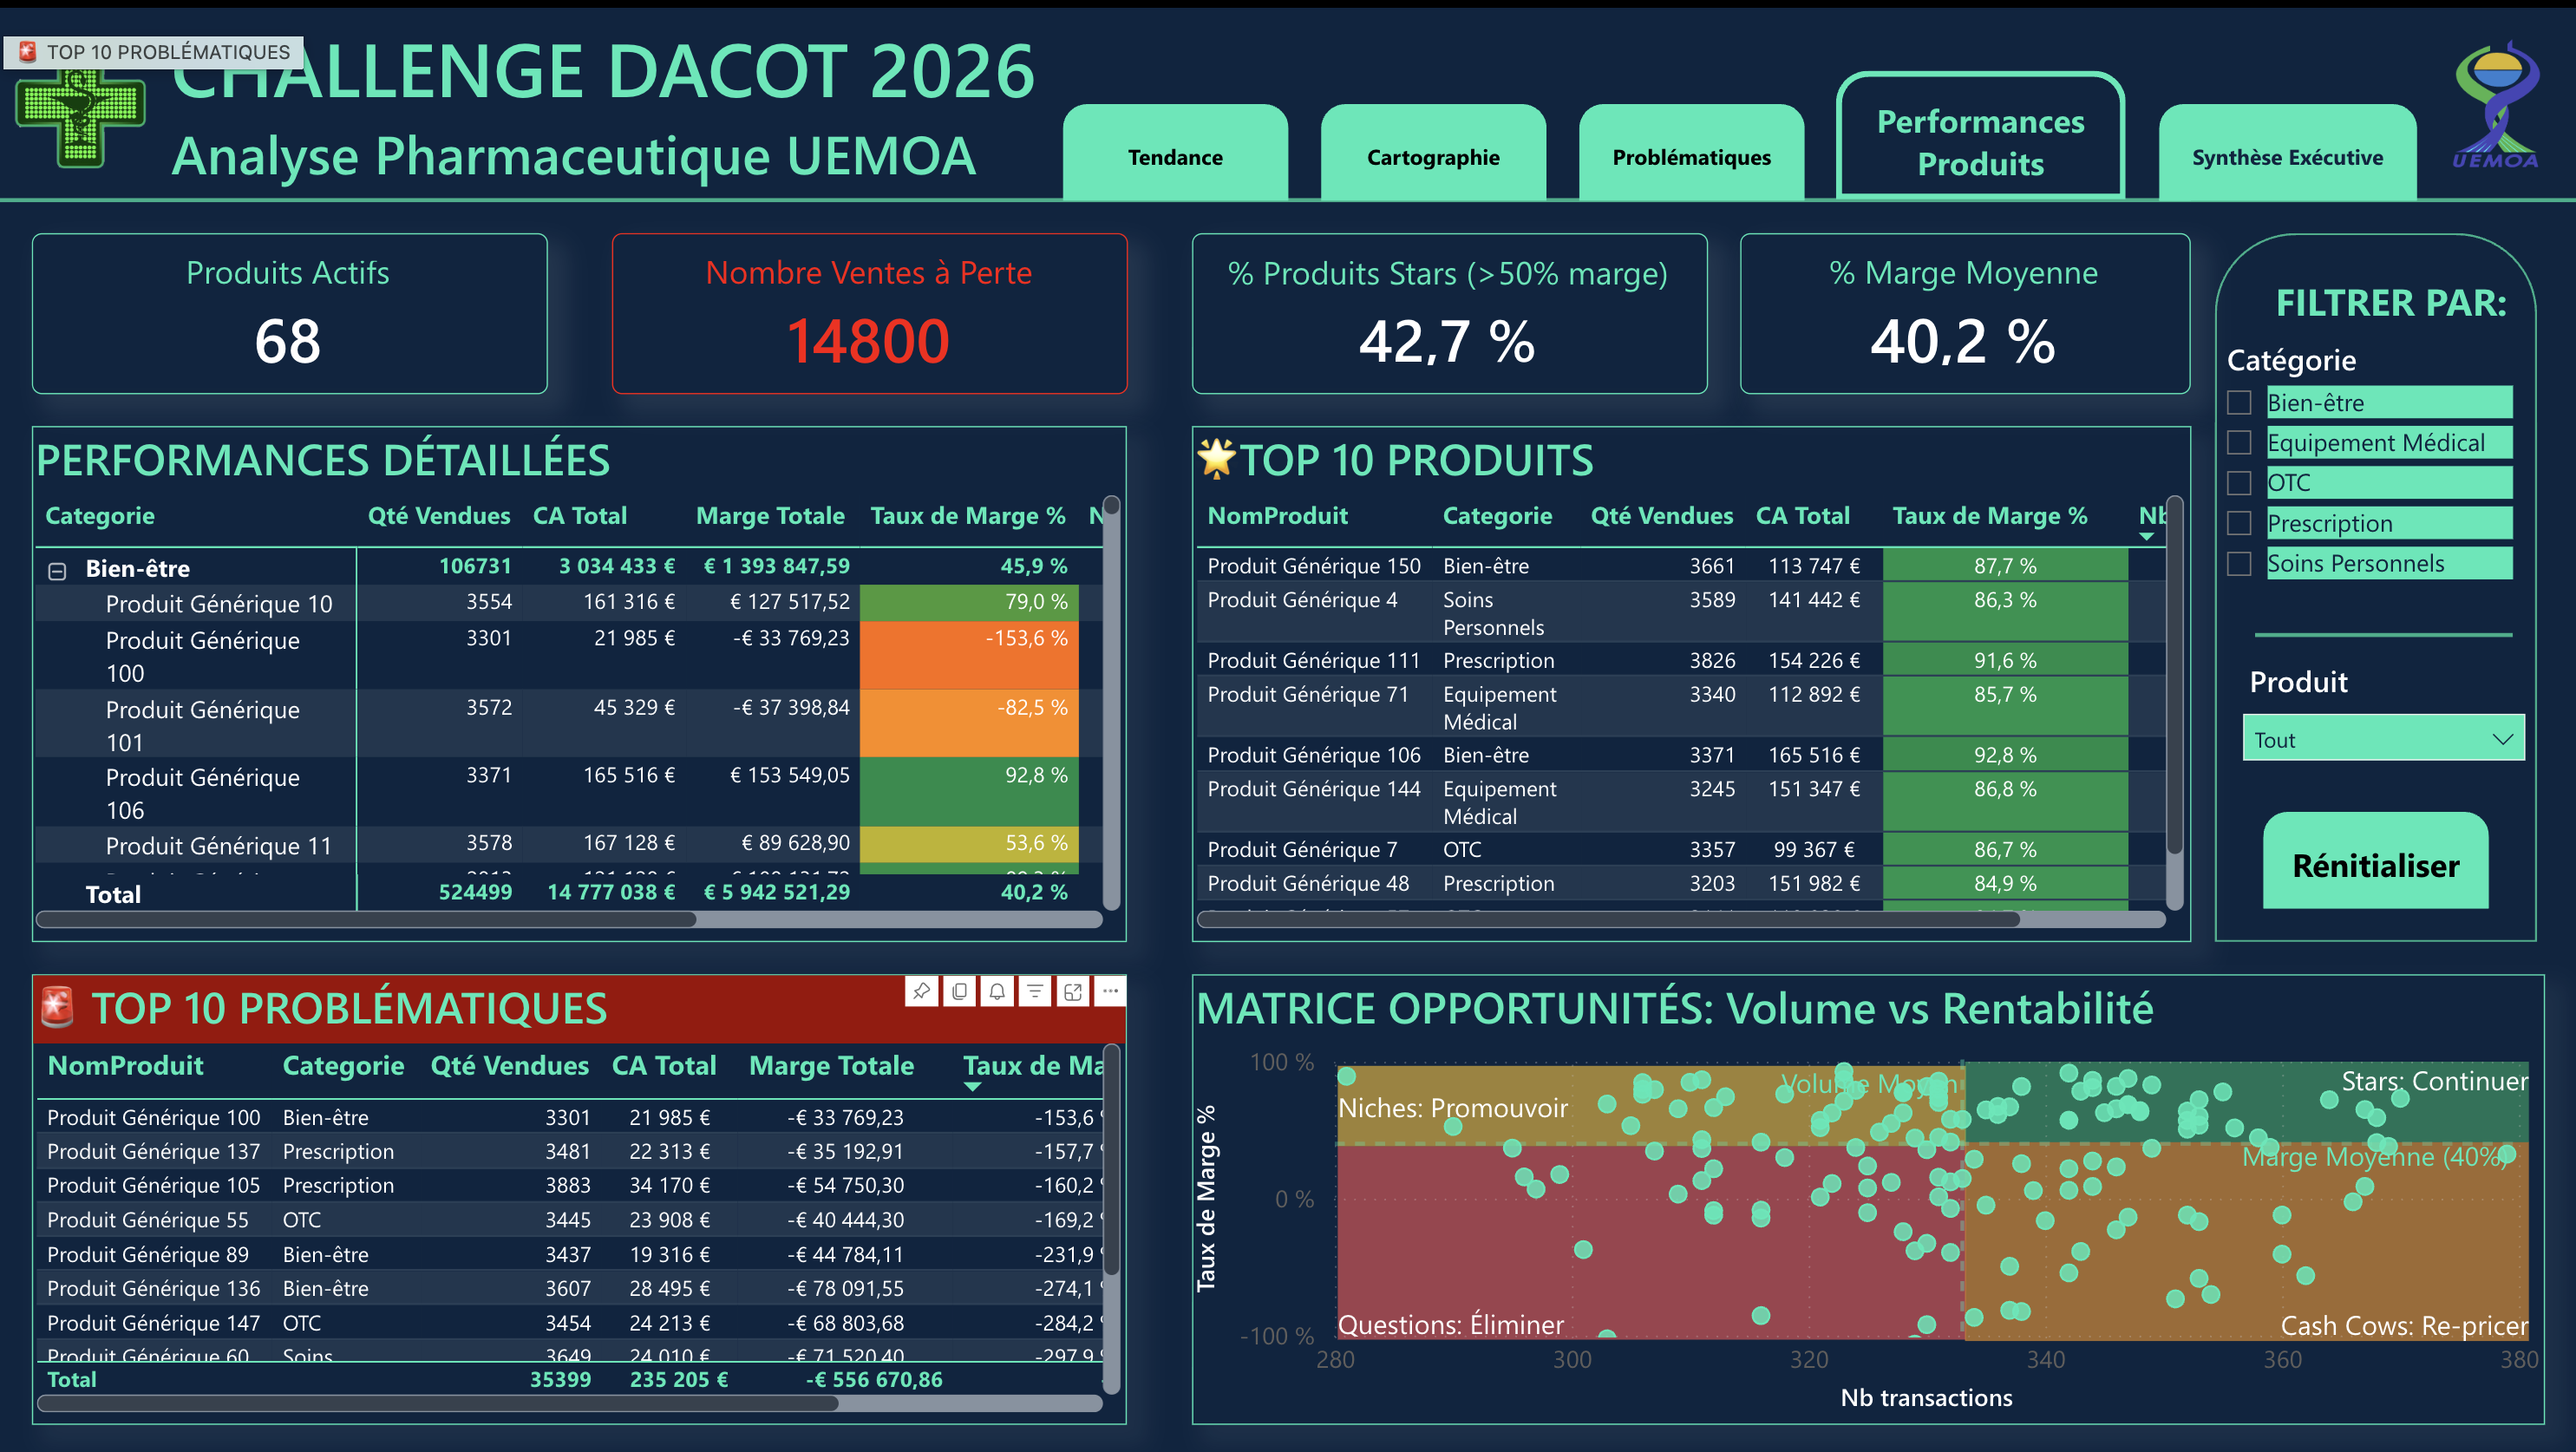

What the dashboard file says about the page in this screenshot:
{"tool":"powerbi","page":{"name":"Performances Produits","canvas":[1280,720],"ordinal":1},"visuals":[{"type":"textbox","box":[80,0,640,96],"z":0},{"type":"shape","box":[0,80,1280,32],"z":1000},{"type":"image","box":[0,0,80,96],"z":2000},{"type":"image","box":[1200,16,80,64],"z":3000},{"type":"actionButton","box":[1072,48,128,48],"z":4000},{"type":"actionButton","box":[528,48,112,48],"z":5000},{"type":"actionButton","box":[656,48,112,48],"z":6000},{"type":"actionButton","box":[784,48,112,48],"z":7000},{"type":"actionButton","box":[912,32,144,64],"z":8000},{"type":"shape","box":[1100,112,160,352],"z":9000},{"type":"actionButton","box":[1124,400,112,48],"z":10000},{"type":"pivotTable","title":" PERFORMANCES DÉTAILLÉES","fields":{"Rows":["DimProduit.Categorie","DimProduit.NomProduit"],"Values":["⚡ Mesures.Qté Vendues","⚡ Mesures.CA Total","⚡ Mesures.Marge Totale","⚡ Mesures.Taux de Marge %","⚡ Mesures.Nb transactions","⚡ Mesures.Nb Ventes à Perte"]},"box":[16,208,544,256],"z":11000},{"type":"cardVisual","fields":{"Data":["⚡ Mesures.Nb Produits Actifs"]},"box":[16,112,256,80],"z":12000},{"type":"cardVisual","fields":{"Data":["⚡ Mesures.Taux de Marge %"]},"box":[864,112,224,80],"z":13000},{"type":"cardVisual","fields":{"Data":["⚡ Mesures.% Produits Stars"]},"box":[592,112,256,80],"z":14000},{"type":"tableEx","title":"🌟TOP 10 PRODUITS","fields":{"Values":["DimProduit.NomProduit","DimProduit.Categorie","⚡ Mesures.Qté Vendues","⚡ Mesures.CA Total","⚡ Mesures.Taux de Marge %","⚡ Mesures.Nb transactions"]},"box":[592,208,496,256],"z":15000},{"type":"tableEx","title":"🚨 TOP 10 PROBLÉMATIQUES","fields":{"Values":["DimProduit.NomProduit","DimProduit.Categorie","⚡ Mesures.Qté Vendues","⚡ Mesures.CA Total","⚡ Mesures.Marge Totale","⚡ Mesures.Taux de Marge %","⚡ Mesures.Nb Ventes à Perte"]},"box":[16,480,544,224],"z":16000},{"type":"cardVisual","fields":{"Data":["⚡ Mesures.Nb Ventes à Perte"]},"box":[304,112,256,80],"z":17000},{"type":"shape","box":[664,526,312,40],"z":19000},{"type":"shape","box":[976,524,280,40],"z":20000},{"type":"shape","box":[664,566,312,96],"z":21000},{"type":"shape","box":[976,564,280,99],"z":22000},{"type":"scatterChart","title":"MATRICE OPPORTUNITÉS: Volume vs Rentabilité","fields":{"Category":["DimProduit.NomProduit"],"X":["⚡ Mesures.Nb transactions"],"Y":["⚡ Mesures.Taux de Marge %"]},"box":[592,480,672,224],"z":23000},{"type":"slicer","title":"Filtrer par:","fields":{"Values":["DimProduit.NomProduit"]},"box":[1104,320,160,64],"z":27000},{"type":"slicer","fields":{"Values":["DimProduit.Categorie"]},"box":[1093,160,160,160],"z":28000},{"type":"textbox","box":[1120,128,144,48],"z":29000},{"type":"shape","box":[1117.2,288.2,127.3,32.6],"z":30000}]}

Visuals, with their boxes in screenshot pixels (x1, y1, x2, y2), scaled from the page's 1280x720 canvas onto the 2576x1452 screenshot:
textbox: (left=161, top=0, right=1449, bottom=193)
shape: (left=0, top=161, right=2575, bottom=226)
image: (left=0, top=0, right=161, bottom=193)
image: (left=2415, top=32, right=2575, bottom=161)
actionButton: (left=2157, top=97, right=2415, bottom=193)
actionButton: (left=1062, top=97, right=1288, bottom=193)
actionButton: (left=1320, top=97, right=1546, bottom=193)
actionButton: (left=1578, top=97, right=1803, bottom=193)
actionButton: (left=1835, top=64, right=2125, bottom=193)
shape: (left=2213, top=226, right=2536, bottom=936)
actionButton: (left=2262, top=807, right=2488, bottom=904)
" PERFORMANCES DÉTAILLÉES" pivotTable: (left=32, top=420, right=1127, bottom=936)
cardVisual - ⚡ Mesures.Nb Produits Actifs: (left=32, top=226, right=547, bottom=387)
cardVisual - ⚡ Mesures.Taux de Marge %: (left=1739, top=226, right=2189, bottom=387)
cardVisual - ⚡ Mesures.% Produits Stars: (left=1192, top=226, right=1707, bottom=387)
"🌟TOP 10 PRODUITS" tableEx: (left=1192, top=420, right=2189, bottom=936)
"🚨 TOP 10 PROBLÉMATIQUES" tableEx: (left=32, top=968, right=1127, bottom=1420)
cardVisual - ⚡ Mesures.Nb Ventes à Perte: (left=611, top=226, right=1127, bottom=387)
shape: (left=1337, top=1061, right=1965, bottom=1141)
shape: (left=1965, top=1056, right=2527, bottom=1137)
shape: (left=1337, top=1141, right=1965, bottom=1335)
shape: (left=1965, top=1137, right=2527, bottom=1337)
"MATRICE OPPORTUNITÉS: Volume vs Rentabilité" scatterChart: (left=1192, top=968, right=2544, bottom=1420)
"Filtrer par:" slicer: (left=2222, top=645, right=2544, bottom=775)
slicer - DimProduit.Categorie: (left=2200, top=323, right=2521, bottom=645)
textbox: (left=2254, top=258, right=2544, bottom=355)
shape: (left=2248, top=581, right=2505, bottom=647)
